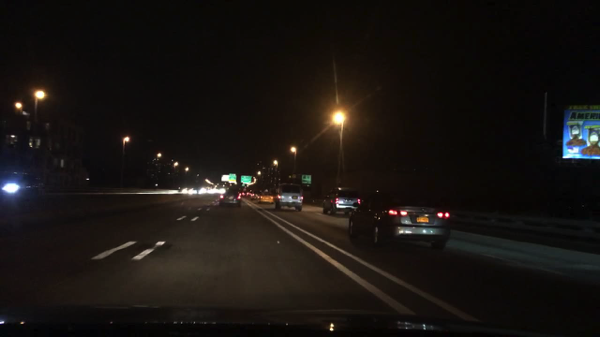car: (347, 188, 452, 252), (1, 169, 44, 200), (322, 187, 361, 215), (275, 183, 305, 211), (219, 190, 242, 206), (257, 192, 275, 205), (188, 186, 205, 194), (249, 191, 261, 199), (214, 188, 225, 193), (241, 191, 249, 197), (207, 189, 216, 194)
traffic sign: (301, 174, 312, 185), (228, 174, 237, 183), (241, 176, 252, 183)
